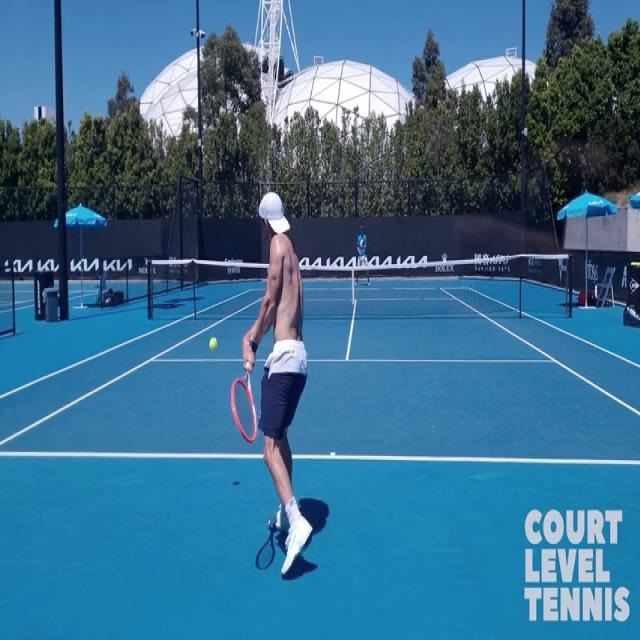backhand-stroke: (232, 188, 314, 582)
